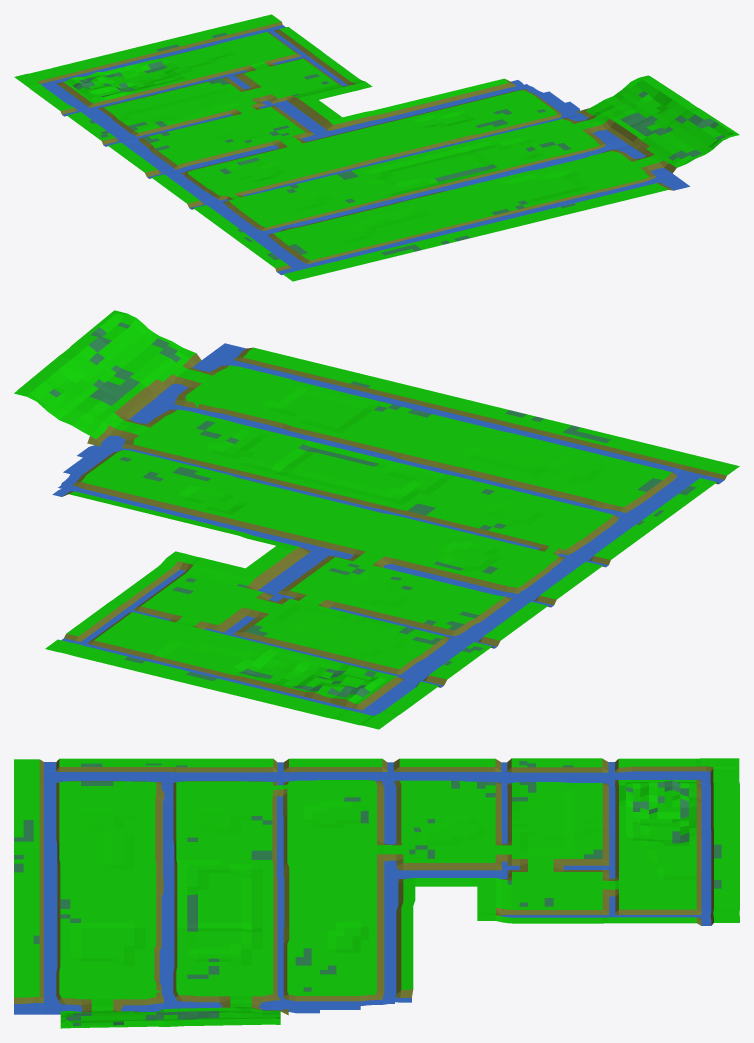
File: inv Walkable.fbx
3 renders of one model, top to bottom at view 1: azimuth 30°, elevation 25°; view 2: azimuth 150°, elevation 25°; view 3: azimuth 270°, elevation 25°, orthographic. The views are drawn at different scales.
Parts seen in each view (by area): view 1: Default; view 2: Default; view 3: Default.
Boxes of the visible parts, left/top/right/bottom form: Default: left=14, top=14, right=739, bottom=281; Default: left=14, top=310, right=739, bottom=729; Default: left=14, top=758, right=739, bottom=1028.
Size of the model in its own units: 95.41 by 4.65 by 99.1.
